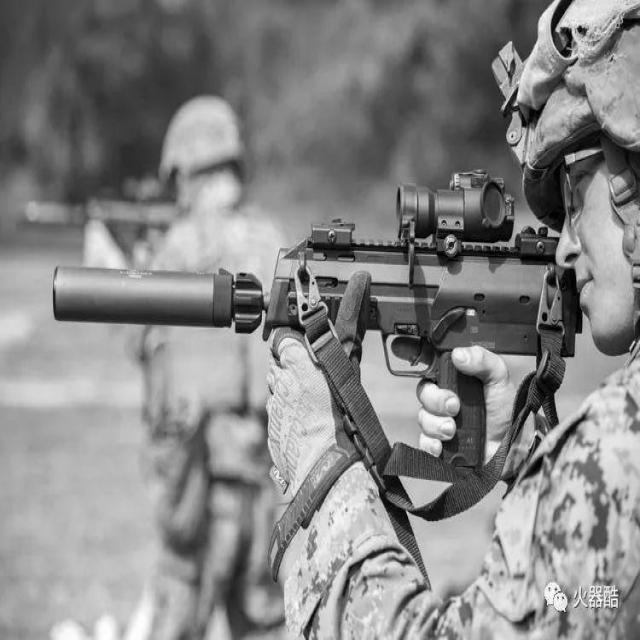gun: (43, 174, 586, 496)
